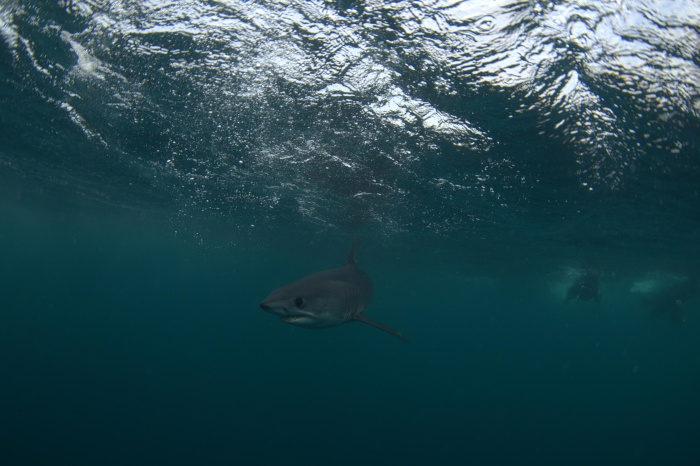Mako: (256, 233, 424, 347)
